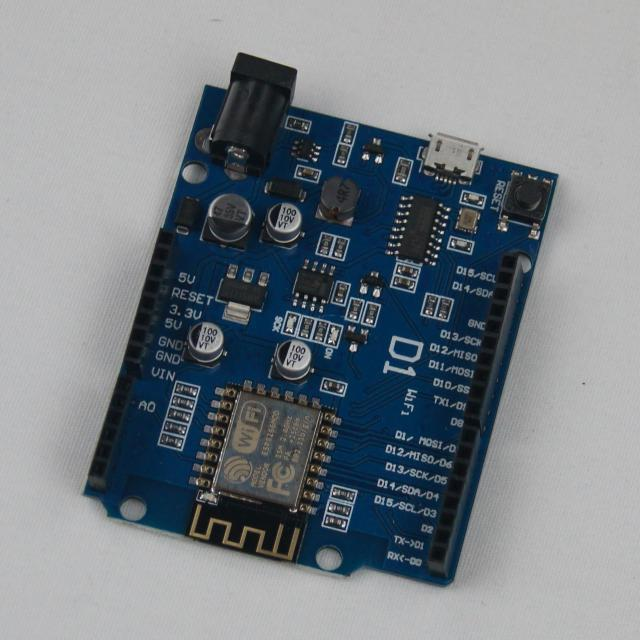Arduino Uno WiFi Shield: (86, 54, 558, 586)
